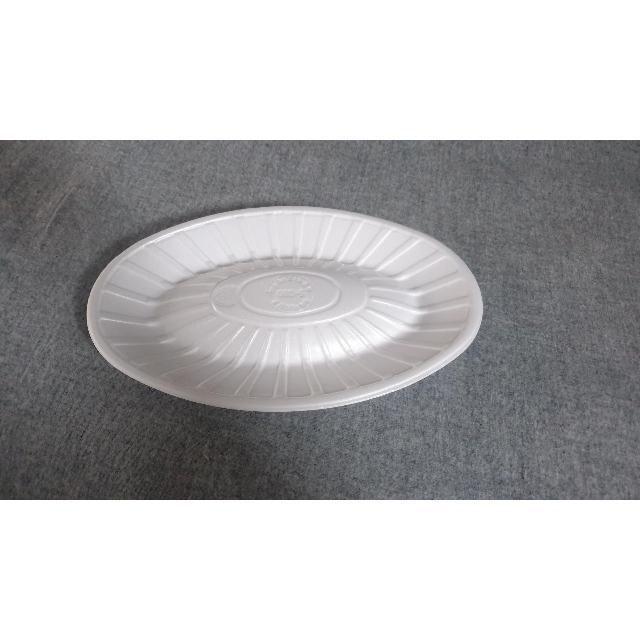Recipiente plastico: (88, 206, 482, 411)
